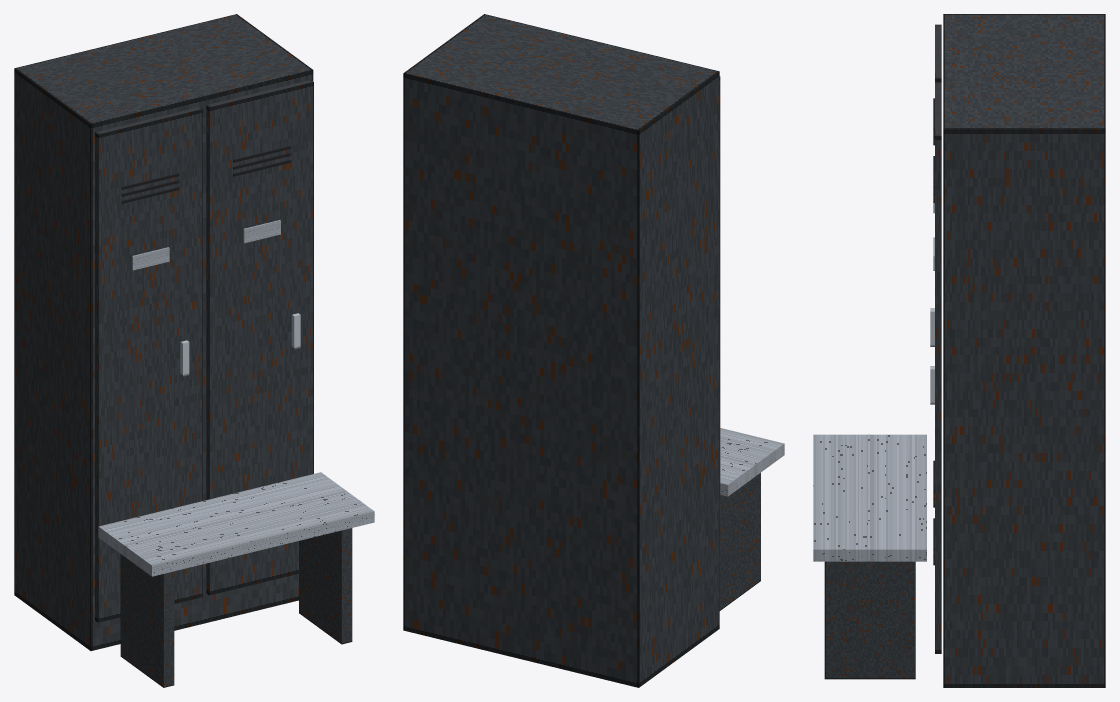
Rendered from locker_command_bridge.glb.
3 renders of one model, left to right at view 1: azimuth 30°, elevation 25°; view 2: azimuth 150°, elevation 25°; view 3: azimuth 270°, elevation 25°, orthographic. The views are drawn at different scales.
Parts seen in each view (by area): view 1: locker_command_bridge; view 2: locker_command_bridge; view 3: locker_command_bridge.
Boxes of the visible parts, <box> form: locker_command_bridge: <box>14,14,374,687</box>; locker_command_bridge: <box>403,14,784,687</box>; locker_command_bridge: <box>813,14,1105,687</box>.
Size of the model in its own units: 0.84 by 1.9 by 0.9.
6 materials, 6 textured.
